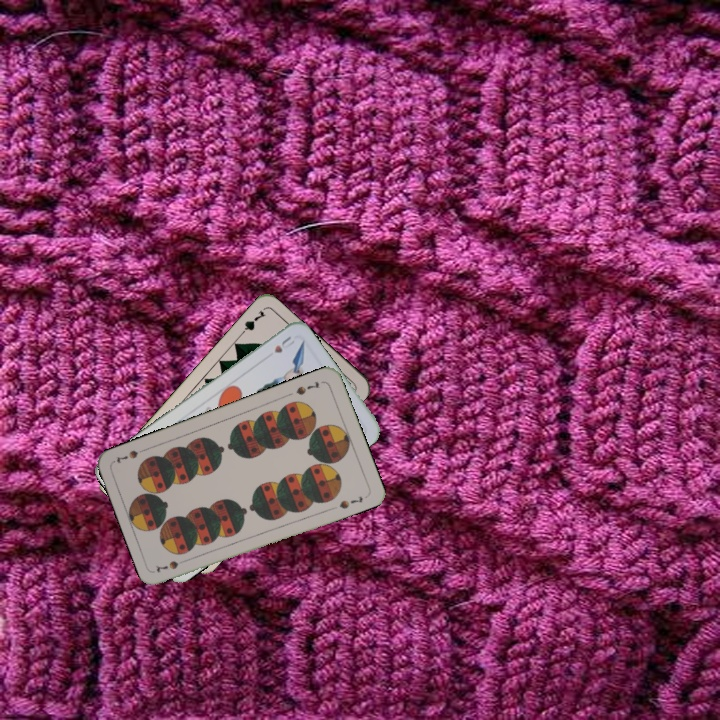G7: (235, 306, 268, 339)
HU: (270, 332, 297, 356)
S7: (152, 554, 192, 575), (292, 377, 322, 398)
